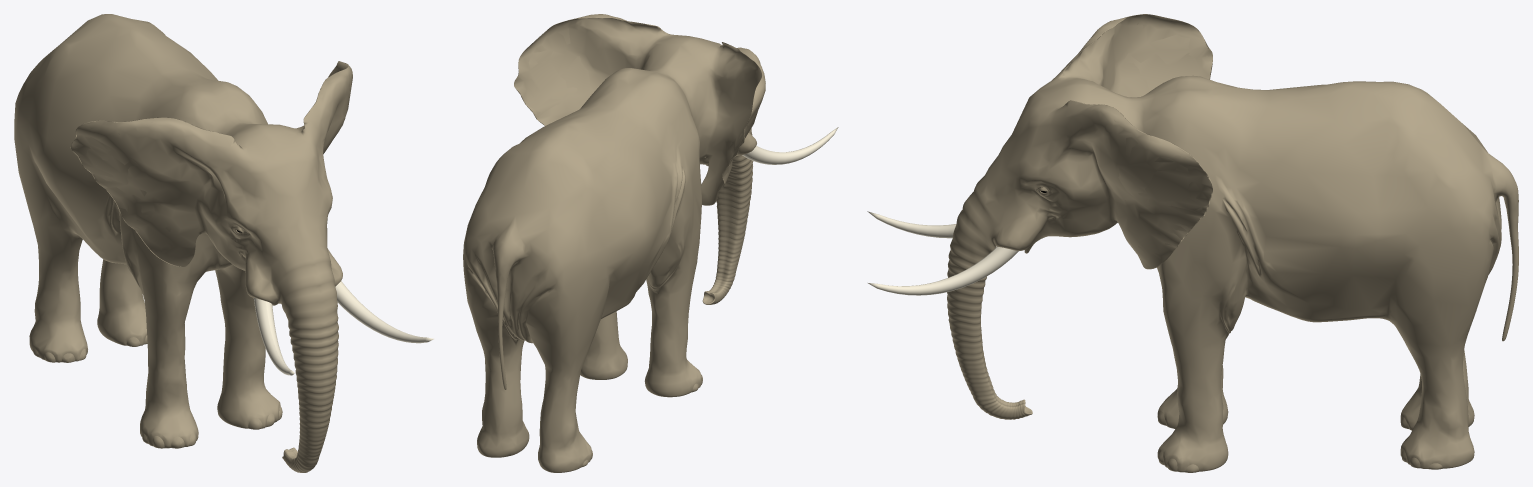
The picture shows the model from 3 angles, left to right: view 1: azimuth 30°, elevation 25°; view 2: azimuth 150°, elevation 25°; view 3: azimuth 270°, elevation 25°; orthographic projection. The views are drawn at different scales.
Visible parts, largest first — view 1: Obj3d66-604642-1-200, Obj3d66-604642-2-287, Obj3d66-604642-3-338; view 2: Obj3d66-604642-1-200, Obj3d66-604642-3-338; view 3: Obj3d66-604642-1-200, Obj3d66-604642-2-287, Obj3d66-604642-3-338.
Part boxes in pixels (x1,y1,x2,y2): Obj3d66-604642-1-200: (14, 14, 352, 472); Obj3d66-604642-2-287: (335, 281, 433, 343); Obj3d66-604642-3-338: (253, 298, 294, 375); Obj3d66-604642-1-200: (463, 14, 765, 472); Obj3d66-604642-3-338: (742, 127, 838, 164); Obj3d66-604642-1-200: (947, 14, 1518, 472); Obj3d66-604642-2-287: (868, 246, 1018, 295); Obj3d66-604642-3-338: (867, 211, 956, 238).
Bounding box in the file's own units: 5.85 × 7.67 × 12.11.
